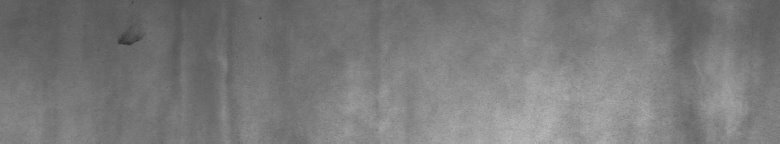fi: (116, 28, 143, 52)
